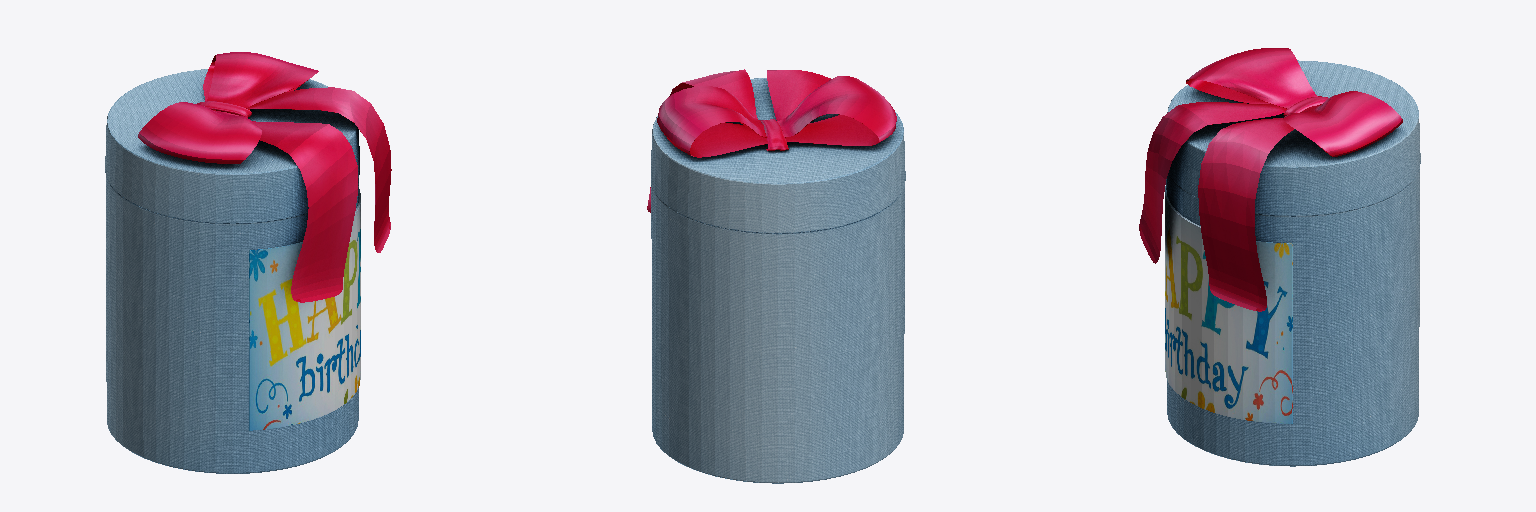
3 views of the same model, side by side, from view 1: azimuth 30°, elevation 25°; view 2: azimuth 150°, elevation 25°; view 3: azimuth 270°, elevation 25° (orthographic).
Visible parts, largest first — view 1: Torus; view 2: Torus; view 3: Torus.
Part boxes in pixels (x1,y1,x2,y2): Torus: (105, 52, 391, 473); Torus: (647, 69, 905, 483); Torus: (1139, 48, 1420, 466).
Bounding box in the file's own units: 60.92 × 76 × 58.37.
Materials: 3 (2 with a texture image).